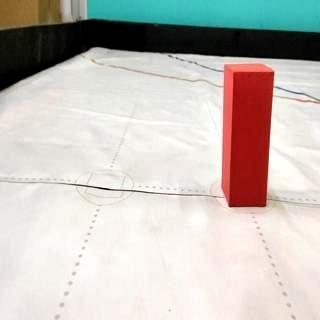redbox: (220, 62, 274, 208)
